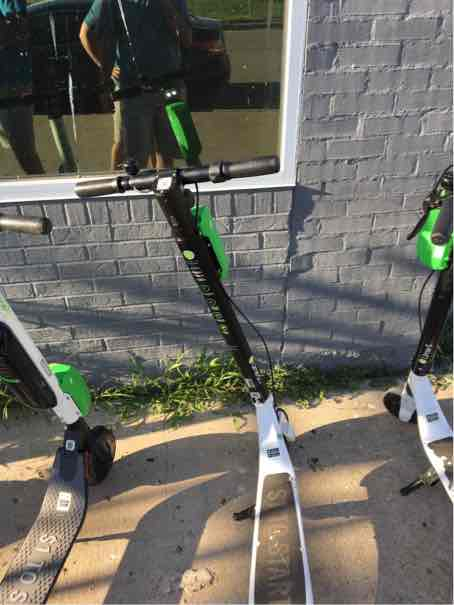scooter: (85, 131, 329, 604)
